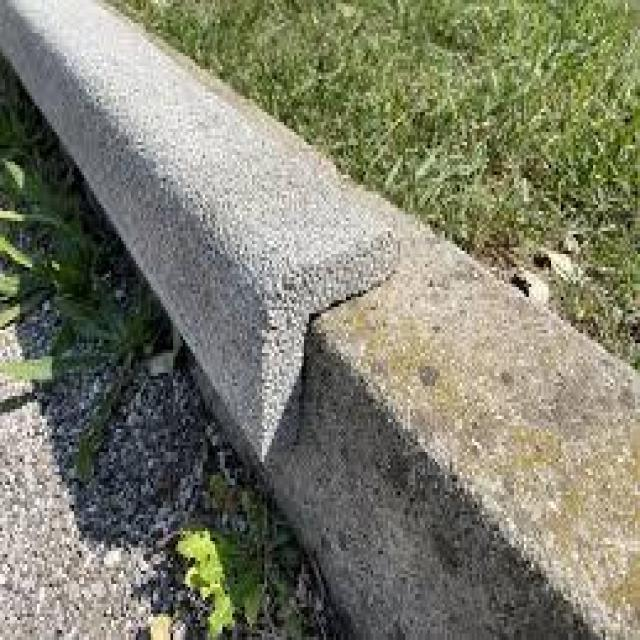curb: (1, 1, 396, 460), (267, 219, 640, 640)
